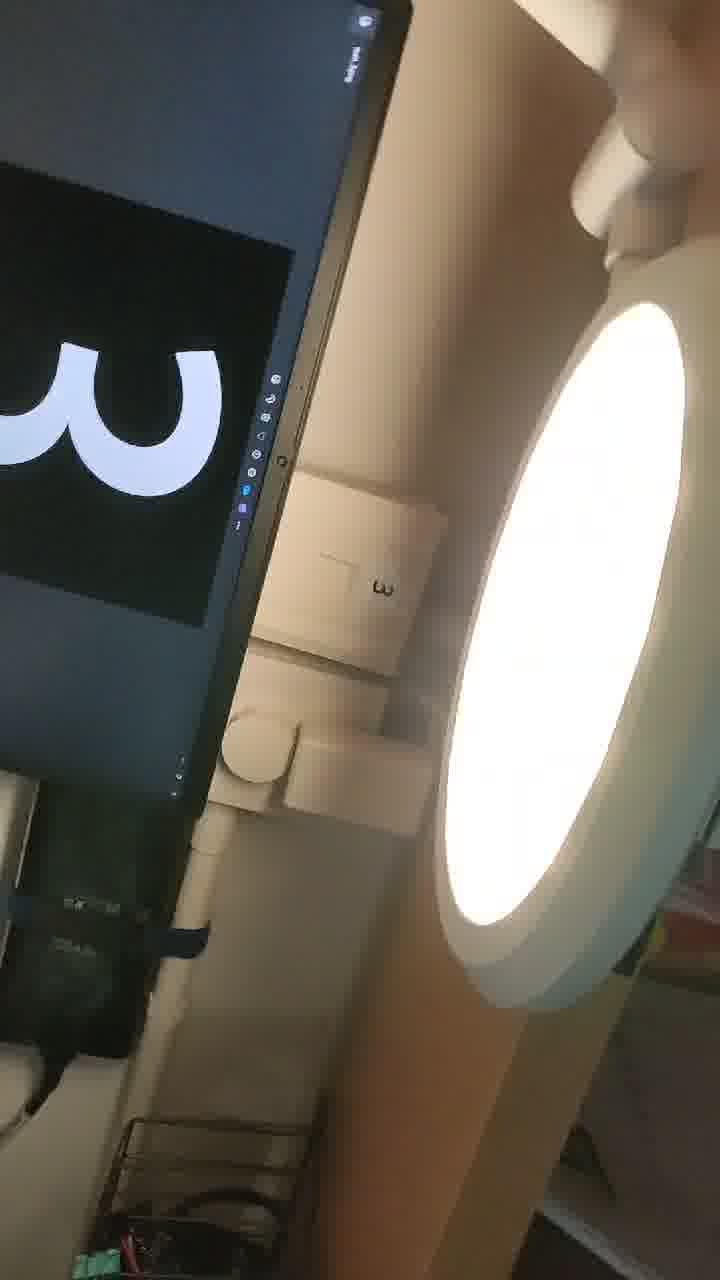three: (1, 199, 249, 520)
